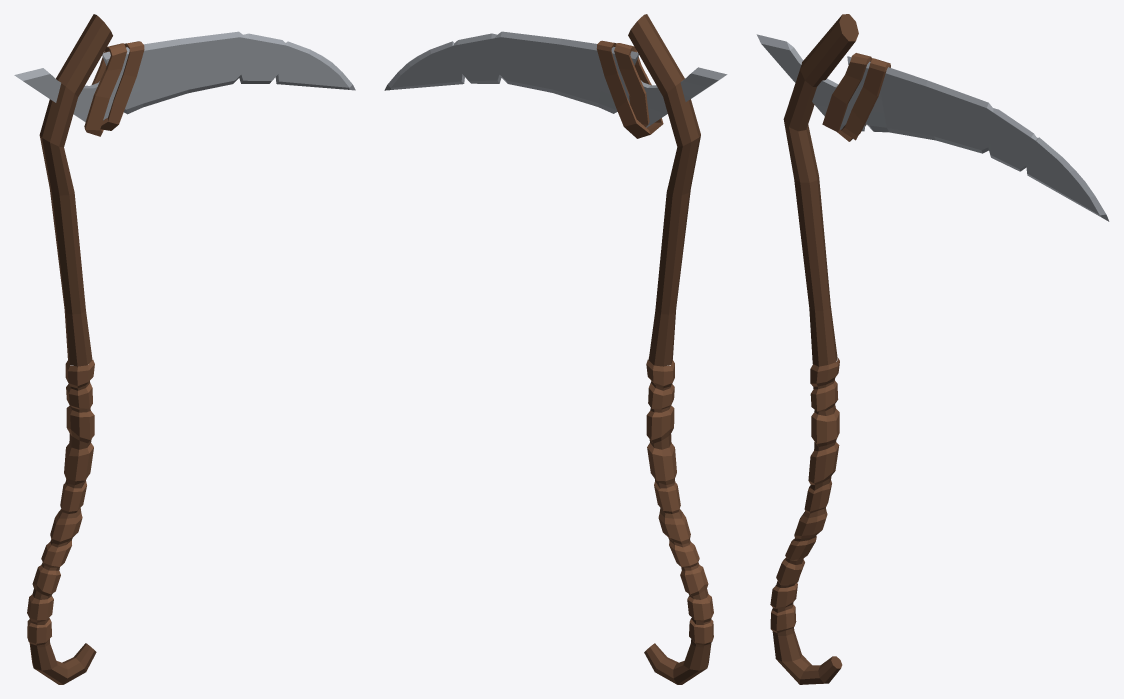
The model's file is Scythe.glb.
3 renders of one model, left to right at view 1: azimuth 30°, elevation 25°; view 2: azimuth 150°, elevation 25°; view 3: azimuth 330°, elevation 25°, orthographic. The views are drawn at different scales.
Parts seen in each view (by area): view 1: Scythe; view 2: Scythe; view 3: Scythe.
Boxes of the visible parts, x1,y1,x2,y2 form: Scythe: (14,14,355,684); Scythe: (384,14,727,684); Scythe: (756,14,1109,684).
Bounding box in the file's own units: 3.03 × 5.58 × 0.2771.
